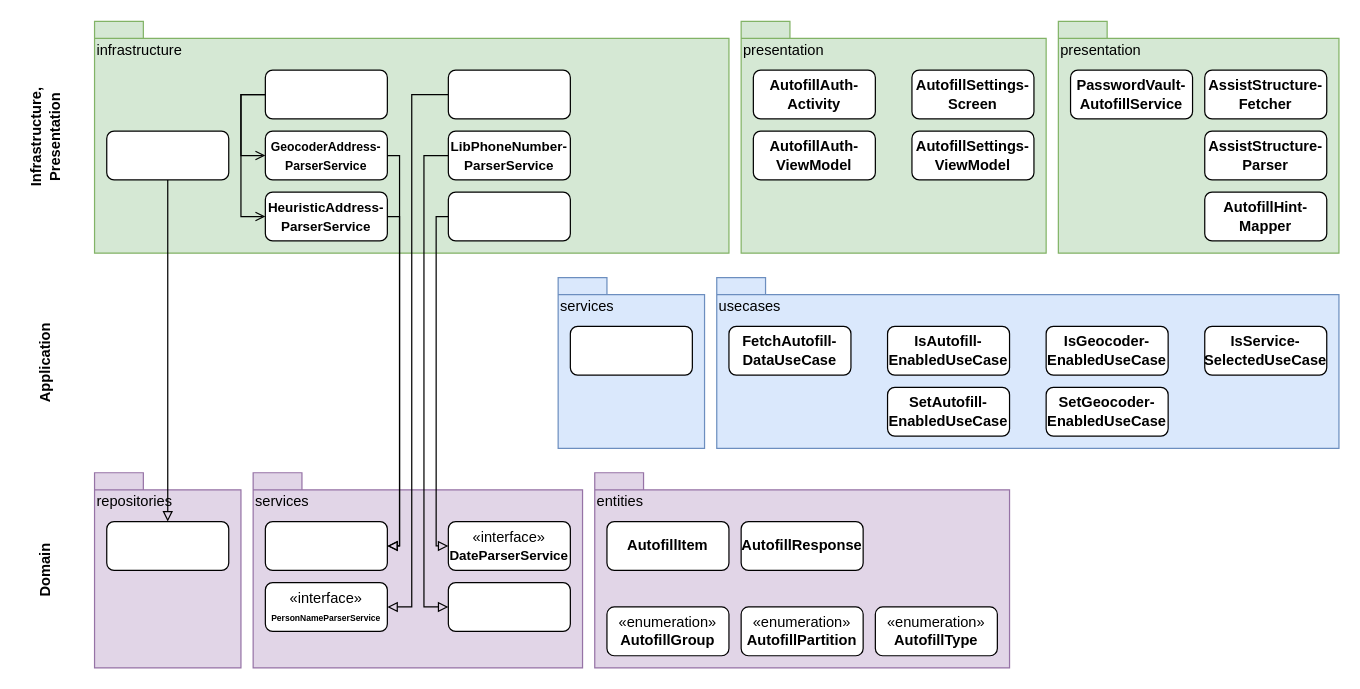
This 1360x689 diagram has some shape labels left out. The shapes that lost their labels are listed below. From the top down, each one's centre as x and y in pixels, then its label:
the point at 325,94: AddressParser-ServiceFactory
the point at 508,94: HeuristicName-ParserService
the point at 167,155: AndroidAutofill-ConfigRepository
the point at 508,216: HeuristicDate-ParserService
the point at 630,350: AutofillType-Mapper
the point at 167,545: «interface» AutofillConfigRepository
the point at 325,545: «interface» AddressParserService
the point at 508,606: «interface» PhoneNumberParserService
